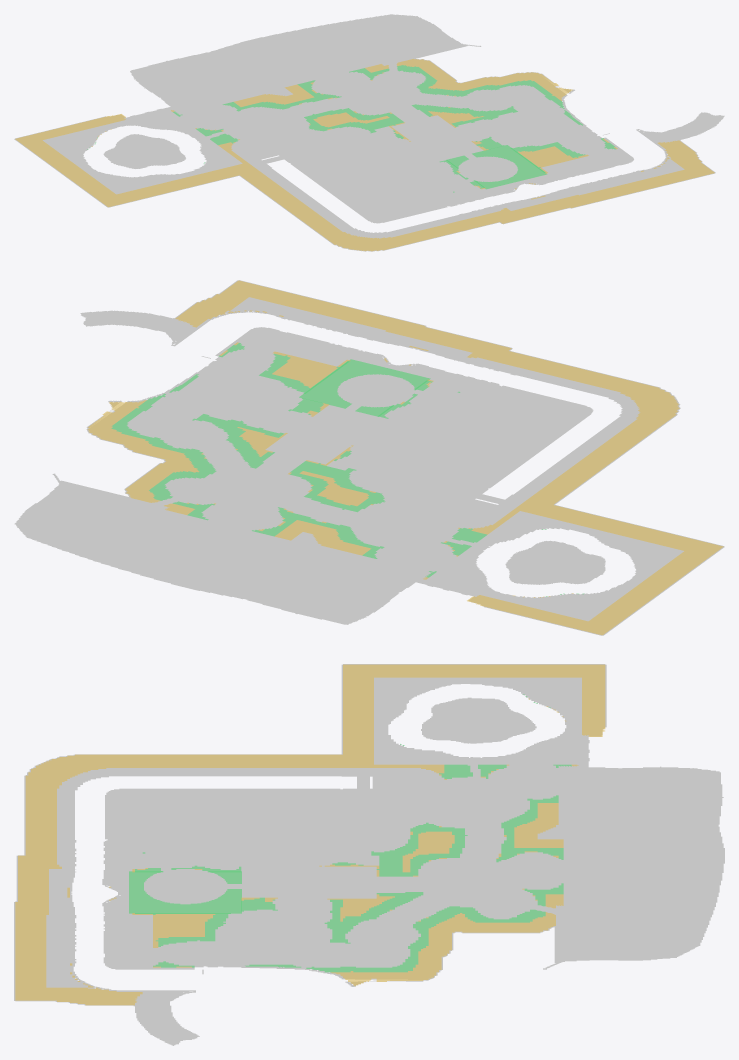
The model's file is auto_fill.glb.
The picture shows the model from 3 angles, top to bottom: view 1: azimuth 30°, elevation 25°; view 2: azimuth 150°, elevation 25°; view 3: azimuth 270°, elevation 25°; orthographic projection. The views are drawn at different scales.
Parts seen in each view (by area): view 1: AutoGround_Base, AutoGround_Margen, AutoForest_Huecos, AutoForest_Gym; view 2: AutoGround_Base, AutoGround_Margen, AutoForest_Huecos, AutoForest_Gym; view 3: AutoGround_Base, AutoGround_Margen, AutoForest_Huecos, AutoForest_Gym.
Boxes of the visible parts, x1,y1,x2,y2 form: AutoGround_Base: [14, 14, 724, 251]; AutoGround_Margen: [15, 59, 714, 251]; AutoForest_Huecos: [87, 65, 615, 192]; AutoForest_Gym: [447, 145, 546, 189]; AutoGround_Base: [14, 280, 724, 635]; AutoGround_Margen: [87, 280, 723, 635]; AutoForest_Huecos: [111, 343, 583, 596]; AutoForest_Gym: [299, 359, 430, 416]; AutoGround_Base: [14, 664, 724, 1045]; AutoGround_Margen: [15, 664, 605, 1005]; AutoForest_Huecos: [135, 694, 571, 972]; AutoForest_Gym: [129, 871, 241, 913].
Bounding box in the file's own units: 695 × 0.06 × 547.
